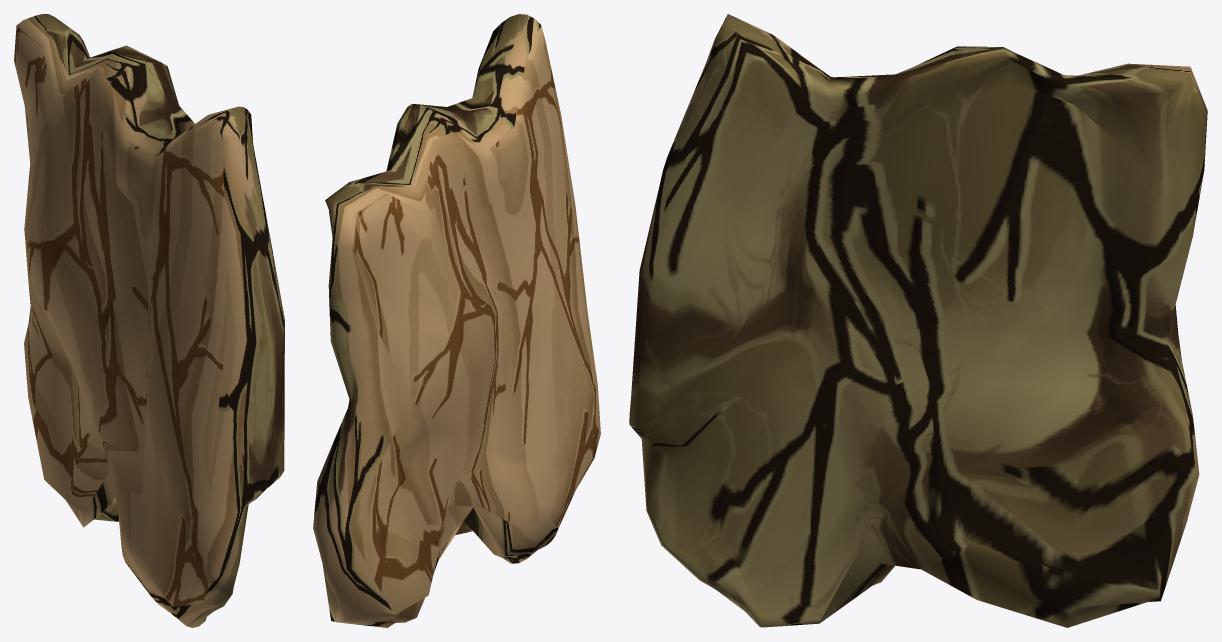
File: breakableBark.fbx
3 views of the same model, side by side, from view 1: azimuth 30°, elevation 25°; view 2: azimuth 150°, elevation 25°; view 3: azimuth 270°, elevation 25° (orthographic). The views are drawn at different scales.
Visible parts, largest first — view 1: pCube4; view 2: pCube4; view 3: pCube4.
Boxes of the visible parts, x1,y1,x2,y2 form: pCube4: (14,14,284,627); pCube4: (313,14,600,627); pCube4: (629,14,1207,627).
Size of the model in its own units: 82.29 by 480 by 404.
1 material, 1 textured.
